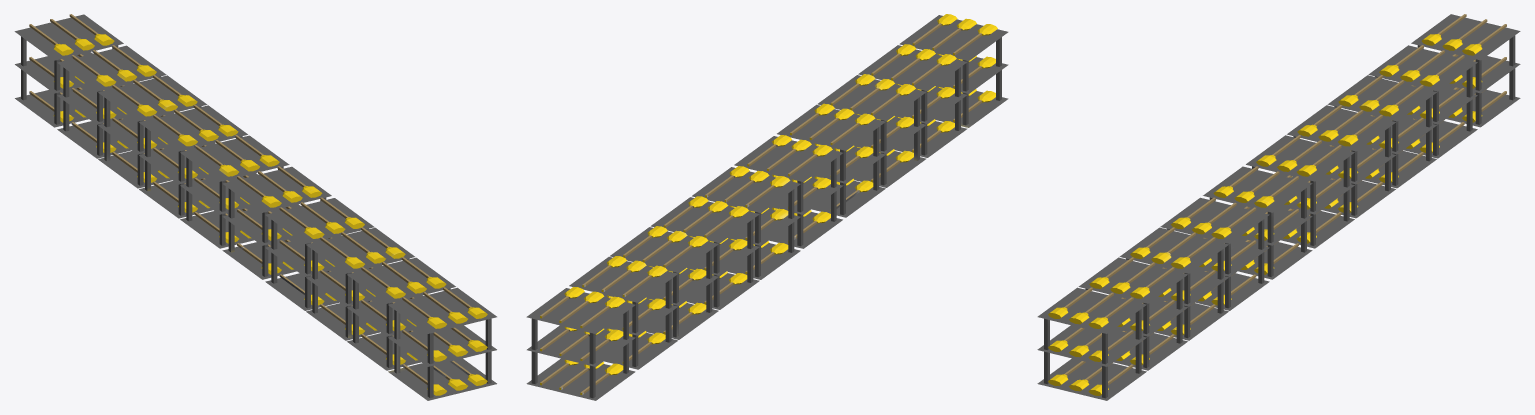
Rendered from EstanteEscoba.obj.
3 renders of one model, left to right at view 1: azimuth 30°, elevation 25°; view 2: azimuth 150°, elevation 25°; view 3: azimuth 330°, elevation 25°, orthographic.
Visible parts, largest first — view 1: EstanteEscobas; view 2: EstanteEscobas; view 3: EstanteEscobas.
Boxes of the visible parts, left/top/right/bottom form: EstanteEscobas: left=14, top=14, right=496, bottom=400; EstanteEscobas: left=526, top=14, right=1008, bottom=400; EstanteEscobas: left=1037, top=14, right=1520, bottom=400.
Size of the model in its own units: 2 by 1.99 by 20.52.
1 material, 1 textured.
